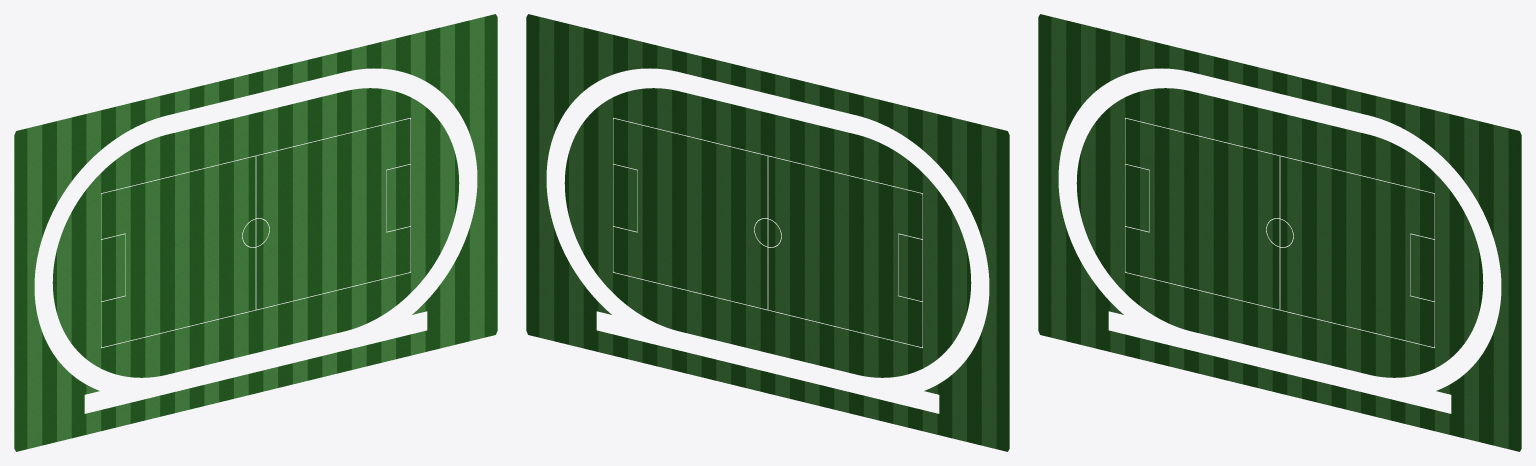
3 views of the same model, side by side, from view 1: azimuth 30°, elevation 25°; view 2: azimuth 150°, elevation 25°; view 3: azimuth 330°, elevation 25° (orthographic).
Size of the model in its own units: 82 by 52 by 0.
